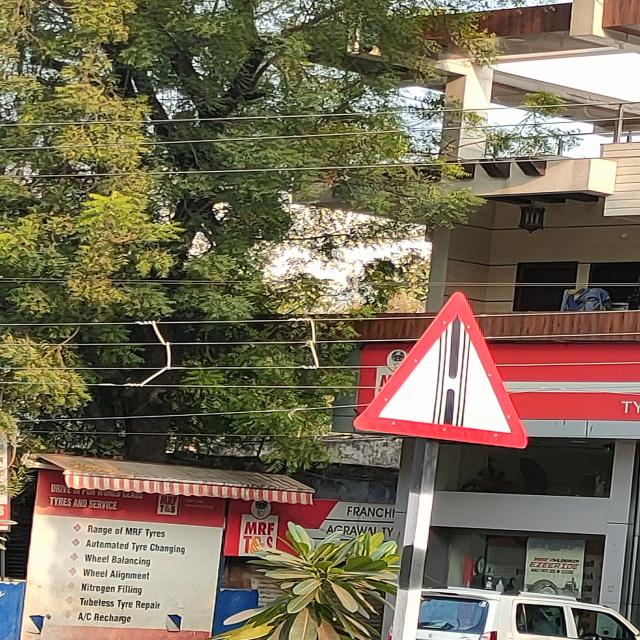ferry: (354, 291, 532, 449)
